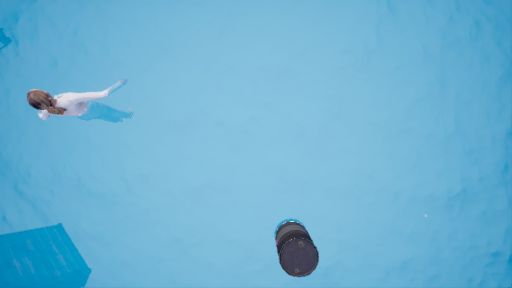person: (25, 76, 148, 133)
